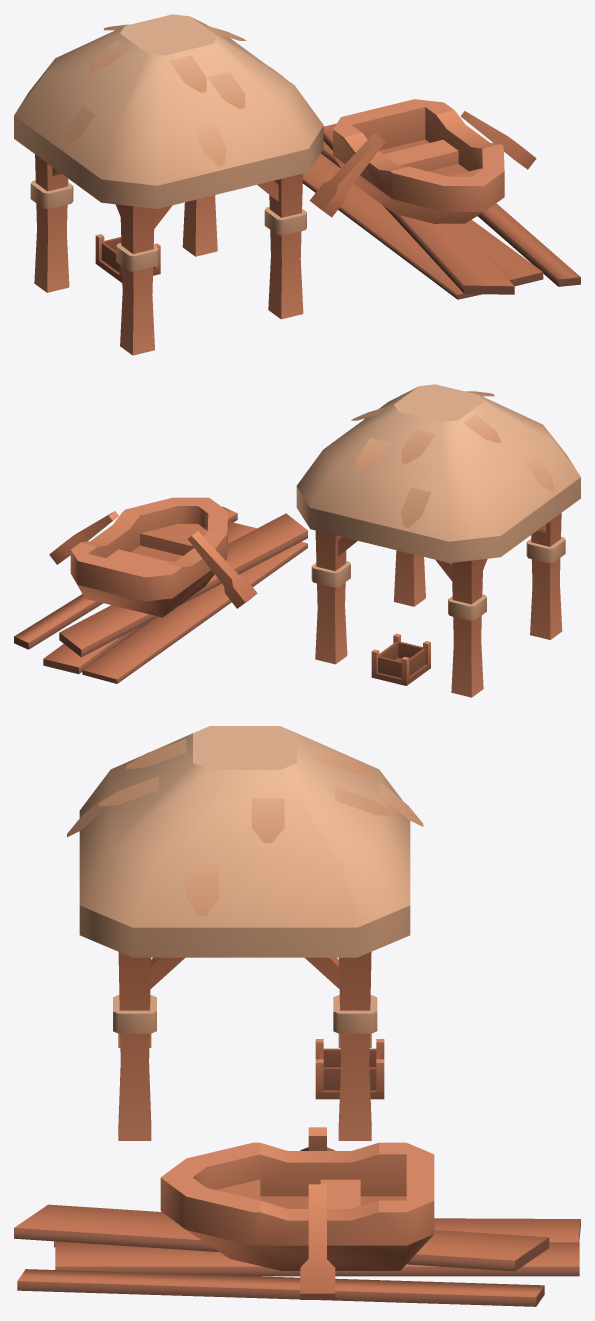
Rendered from london_yard_1.glb.
3 views of the same model, one above another, from view 1: azimuth 30°, elevation 25°; view 2: azimuth 150°, elevation 25°; view 3: azimuth 270°, elevation 25° (orthographic). The views are drawn at different scales.
Visible parts, largest first — view 1: structure-roof, boat-row-small, platform-planks, paddles, crate; view 2: structure-roof, platform-planks, boat-row-small, paddles, crate; view 3: structure-roof, platform-planks, boat-row-small, paddles, crate.
Boxes of the visible parts, x1=… form: structure-roof: x1=14, y1=14, x2=323, y2=355; boat-row-small: x1=333, y1=99, x2=504, y2=223; platform-planks: x1=302, y1=123, x2=580, y2=299; paddles: x1=309, y1=111, x2=536, y2=217; crate: x1=95, y1=234, x2=160, y2=282; structure-roof: x1=296, y1=384, x2=580, y2=697; platform-planks: x1=14, y1=507, x2=307, y2=683; boat-row-small: x1=70, y1=497, x2=227, y2=617; paddles: x1=49, y1=511, x2=257, y2=608; crate: x1=371, y1=633, x2=430, y2=685; structure-roof: x1=67, y1=726, x2=423, y2=1140; platform-planks: x1=14, y1=1204, x2=580, y2=1306; boat-row-small: x1=160, y1=1142, x2=434, y2=1270; paddles: x1=300, y1=1127, x2=335, y2=1299; crate: x1=315, y1=1039, x2=384, y2=1099.
Bounding box in the file's own units: 14.27 × 7.14 × 10.81.
Materials: 4 (4 with a texture image).
